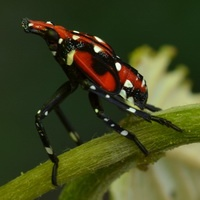insect: (21, 18, 182, 185)
